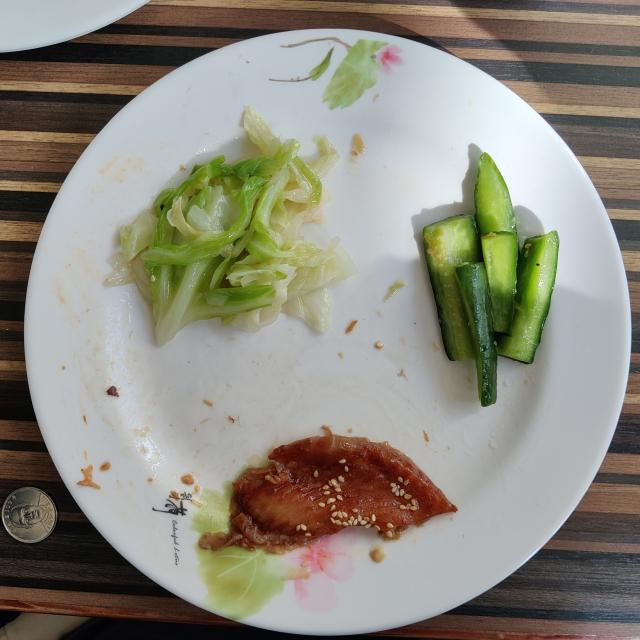Kabayaki sea bream fillet: (199, 426, 456, 554)
cabbage: (106, 106, 356, 345)
coin: (1, 486, 58, 544)
cucumber: (422, 152, 559, 406)
